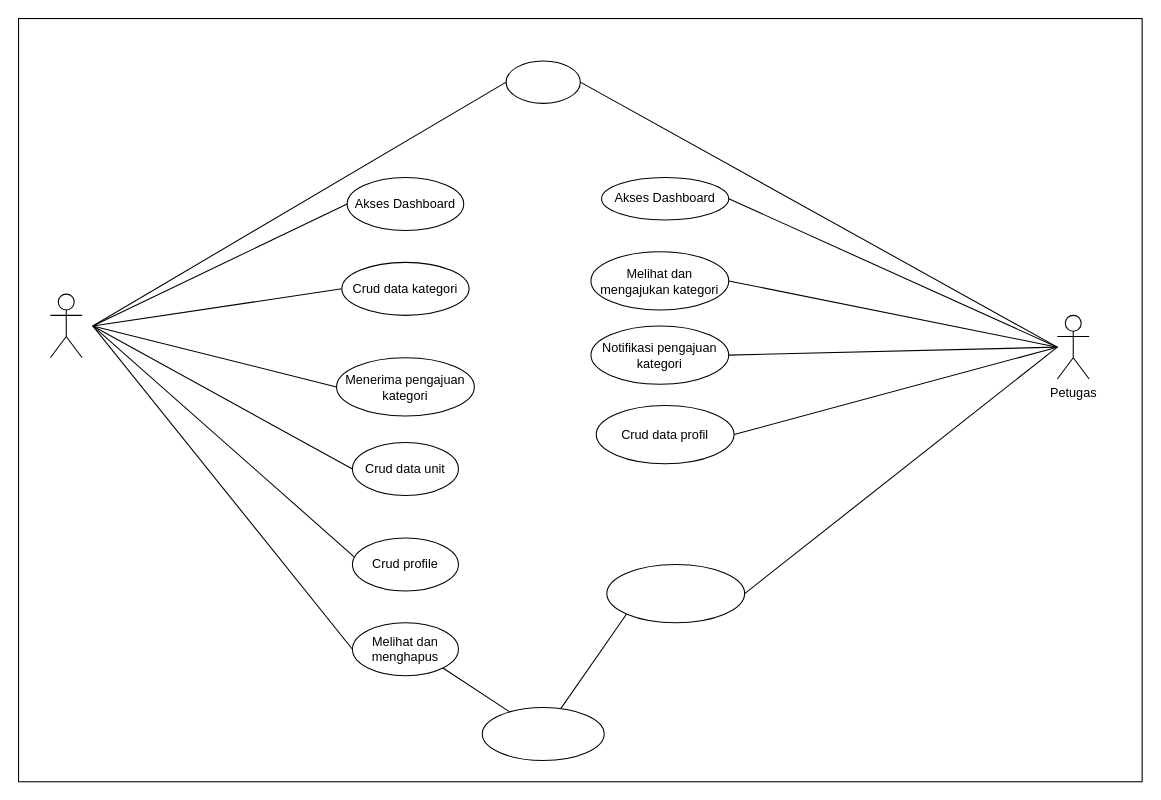
Image size: 1161x800. Some labels were removed from this diagram. The shapes that lost their labels are listed below. From the top down, each one's centre as x and y in pixels, then its label:
At point 542,81: "Login".
At point 65,325: "Admin".
At point 675,593: "Crud data arsip".
At point 542,733: "Data arsip".
